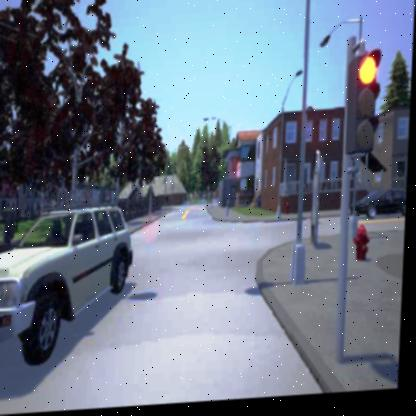vehicle: (0, 198, 137, 368), (356, 193, 408, 224)
